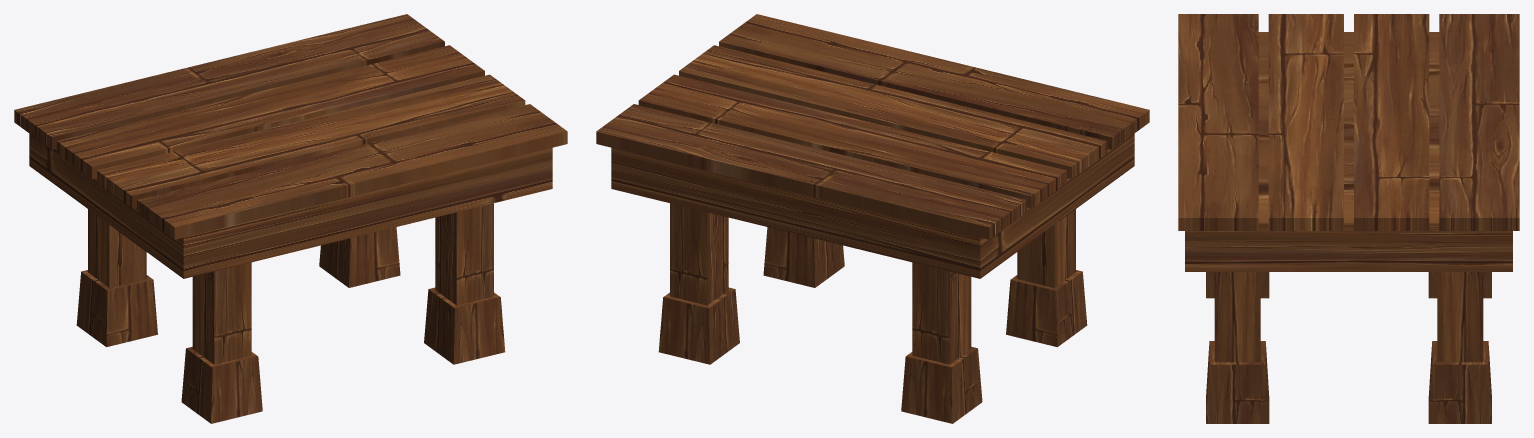
Rendered from TABLE1.fbx.
3 renders of one model, left to right at view 1: azimuth 30°, elevation 25°; view 2: azimuth 150°, elevation 25°; view 3: azimuth 270°, elevation 25°, orthographic. The views are drawn at different scales.
Visible parts, largest first — view 1: Cube.295; view 2: Cube.295; view 3: Cube.295.
Boxes of the visible parts, <box> form: Cube.295: <box>14,14,567,423</box>; Cube.295: <box>596,14,1149,423</box>; Cube.295: <box>1178,14,1519,423</box>.
Size of the model in its own units: 619 by 329 by 438.
